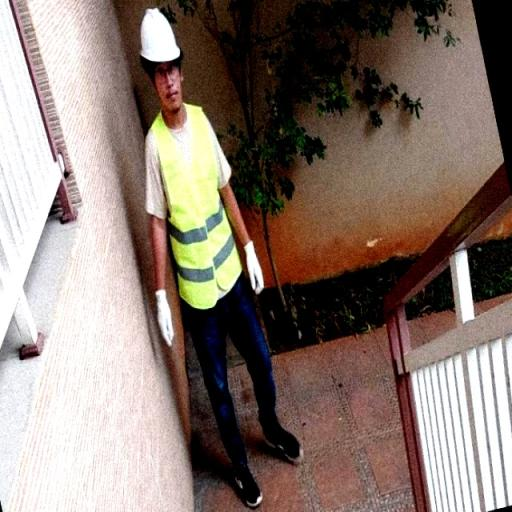Person: (112, 1, 322, 512)
boots: (256, 412, 306, 468), (225, 457, 268, 505)
gloves: (243, 240, 274, 294), (147, 284, 173, 348)
helmet: (134, 6, 182, 66)
vest: (145, 104, 247, 319)
